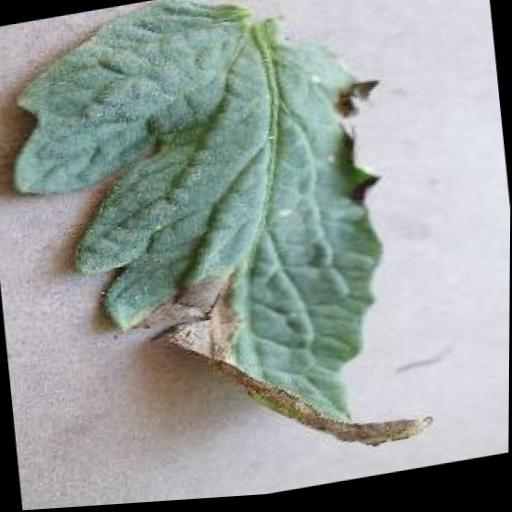Early Blight: (0, 0, 440, 505)
